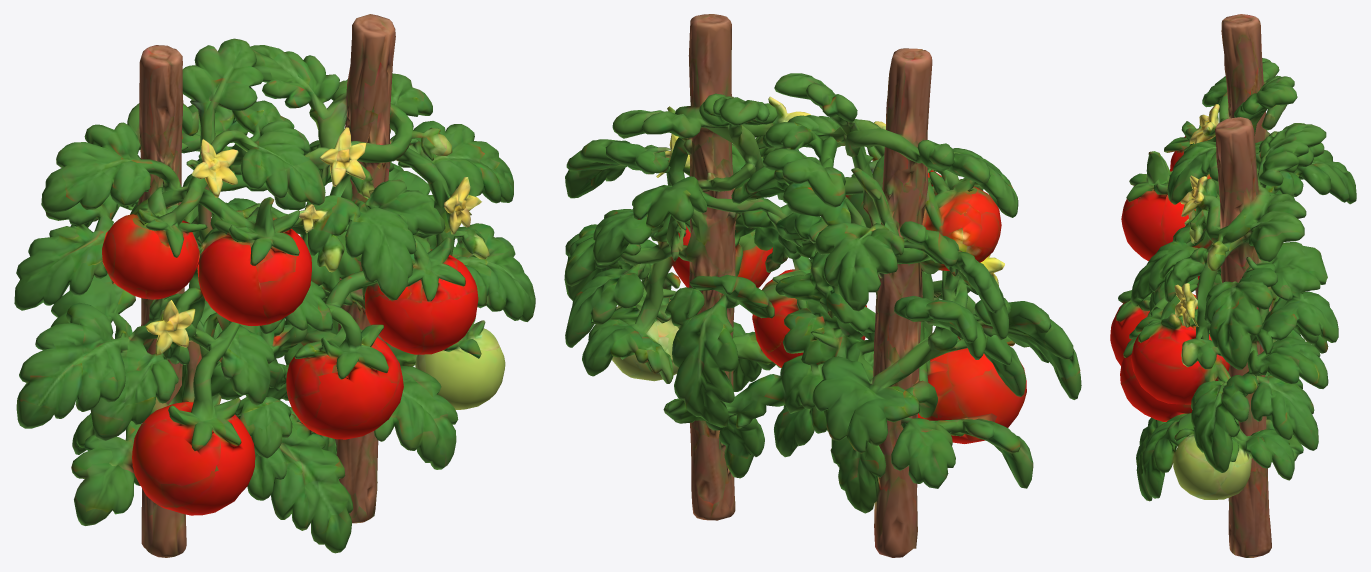
The model's file is tomato-mature.glb.
3 renders of one model, left to right at view 1: azimuth 30°, elevation 25°; view 2: azimuth 150°, elevation 25°; view 3: azimuth 270°, elevation 25°, orthographic. The views are drawn at different scales.
Size of the model in its own units: 1.9 by 1.8 by 0.8952.
1 material, 1 textured.
